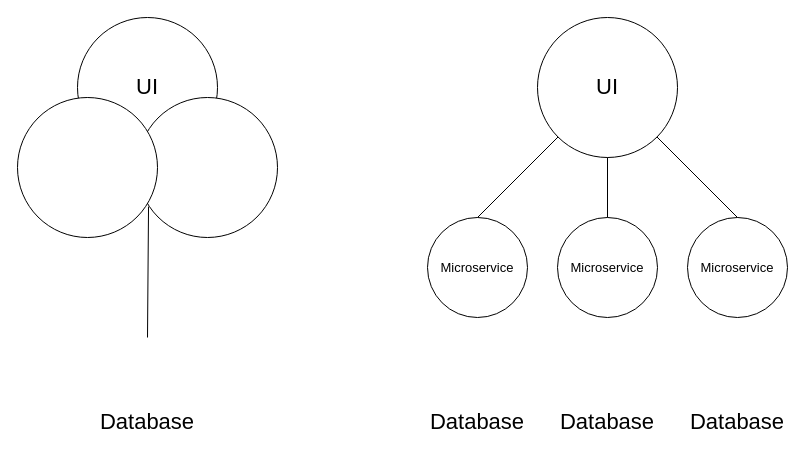
Some shapes in this 805 by 455 pixel diagram are drawn without their labels. Each missing label, with the centre of its shape:
"Business Logic" belongs at [87,167].
"Data Access Layer" belongs at [207,167].
